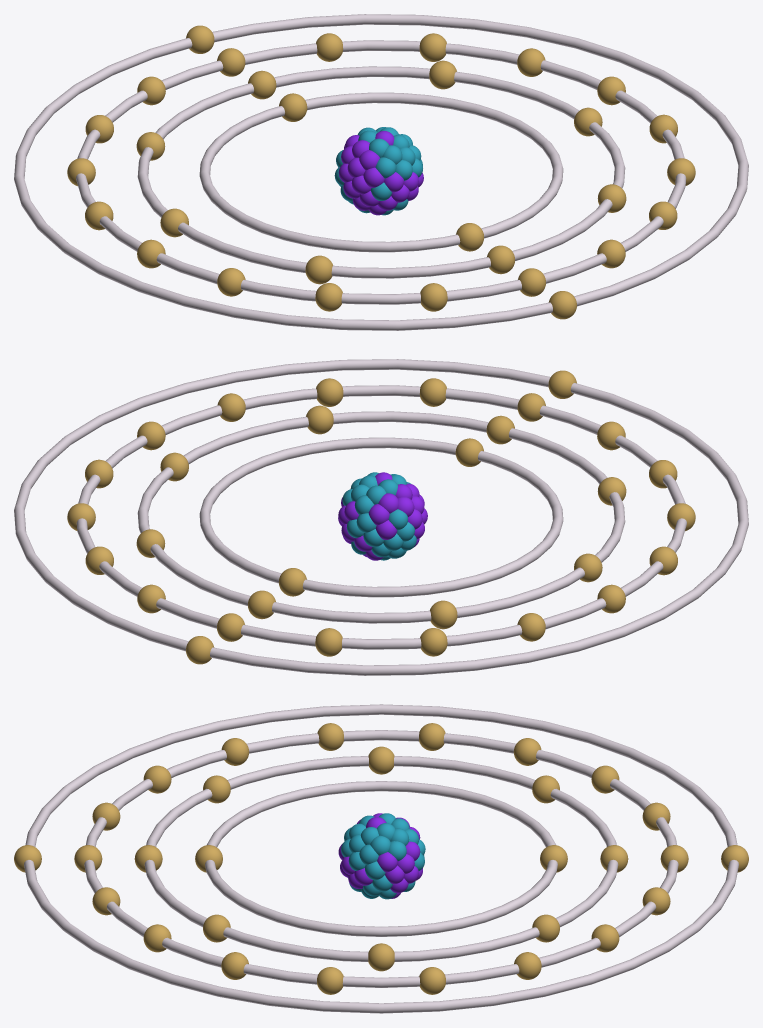
File: zinco.glb
3 views of the same model, one above another, from view 1: azimuth 30°, elevation 25°; view 2: azimuth 150°, elevation 25°; view 3: azimuth 270°, elevation 25° (orthographic). The views are drawn at different scales.
Visible parts, largest first — view 1: Orbita_4, Orbita_3, Orbita_2, Orbita_1, Nucleo_Completo, Eletron_C2_8, Eletron_C3_18, Eletron_C3_8, Eletron_C3_17, Eletron_C3_9, Eletron_C2_4, Eletron_C2_1 (+23 smaller); view 2: Orbita_4, Orbita_3, Orbita_2, Orbita_1, Nucleo_Completo, Eletron_C2_6, Eletron_C3_11, Eletron_C3_3, Eletron_C3_12, Eletron_C3_2, Eletron_C2_2, Eletron_C2_5 (+23 smaller); view 3: Orbita_4, Orbita_3, Orbita_2, Orbita_1, Nucleo_Completo, Eletron_C2_3, Eletron_C3_5, Eletron_C3_6, Eletron_C2_7, Eletron_C3_14, Eletron_C3_15, Eletron_C3_4 (+23 smaller).
Boxes of the visible parts, box(x1,y1,x2,y2) form: Orbita_4: box(14, 14, 748, 330); Orbita_3: box(76, 40, 686, 304); Orbita_2: box(137, 66, 625, 278); Orbita_1: box(199, 92, 563, 252); Nucleo_Completo: box(334, 127, 423, 215); Eletron_C2_8: box(305, 255, 332, 284); Eletron_C3_18: box(420, 283, 447, 311); Eletron_C3_8: box(419, 33, 446, 61); Eletron_C3_17: box(315, 283, 342, 311); Eletron_C3_9: box(316, 33, 343, 61); Eletron_C2_4: box(429, 60, 456, 89); Eletron_C2_1: box(487, 245, 514, 274); Orbita_4: box(14, 359, 748, 675); Orbita_3: box(76, 385, 686, 649); Orbita_2: box(137, 411, 625, 623); Orbita_1: box(199, 437, 563, 597); Nucleo_Completo: box(338, 472, 427, 560); Eletron_C2_6: box(430, 600, 457, 629); Eletron_C3_11: box(315, 628, 342, 656); Eletron_C3_3: box(316, 378, 343, 406); Eletron_C3_12: box(420, 628, 447, 656); Eletron_C3_2: box(419, 378, 446, 406); Eletron_C2_2: box(306, 405, 333, 434); Eletron_C2_5: box(248, 590, 275, 619); Orbita_4: box(24, 704, 738, 1013); Orbita_3: box(84, 730, 678, 987); Orbita_2: box(144, 756, 618, 961); Orbita_1: box(205, 781, 557, 936); Nucleo_Completo: box(338, 813, 425, 899); Eletron_C2_3: box(368, 943, 394, 971); Eletron_C3_5: box(317, 967, 343, 994); Eletron_C3_6: box(419, 967, 445, 994); Eletron_C2_7: box(368, 746, 394, 774); Eletron_C3_14: box(419, 723, 445, 750); Eletron_C3_15: box(317, 723, 343, 750); Eletron_C3_4: box(221, 952, 248, 979).
Size of the model in its own units: 4.16 by 0.5061 by 4.26.
